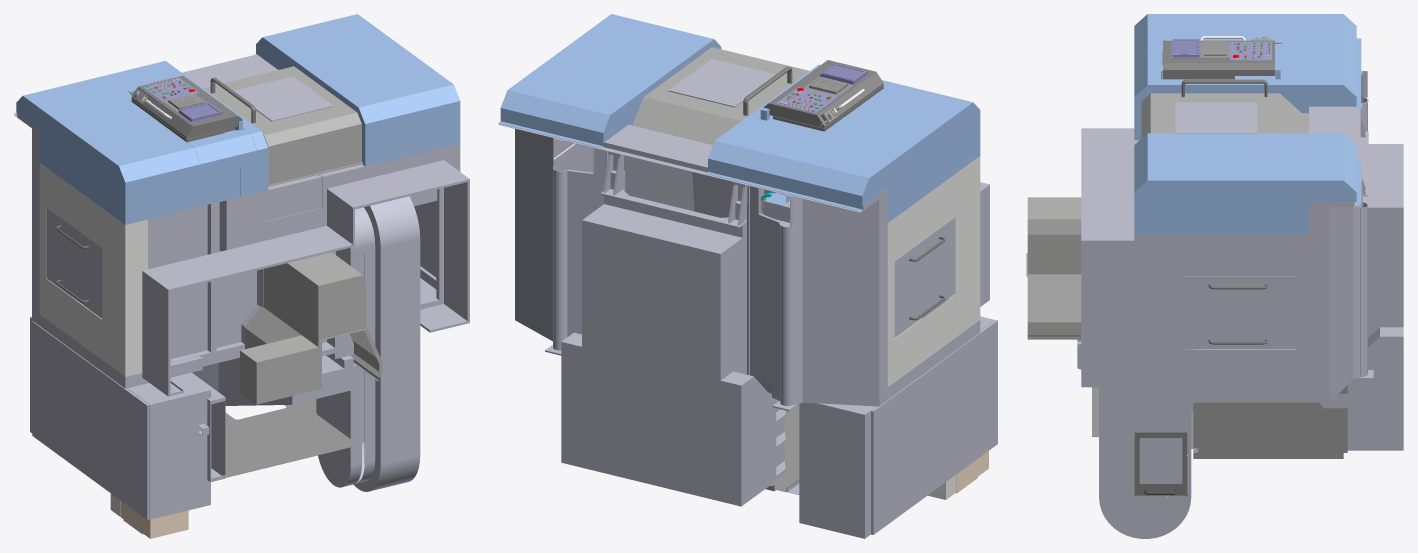
File: DNM 350 5AX_Open.glb
3 views of the same model, side by side, from view 1: azimuth 30°, elevation 25°; view 2: azimuth 150°, elevation 25°; view 3: azimuth 270°, elevation 25° (orthographic). The views are drawn at different scales.
Visible parts, largest first — view 1: SPLASH_GUARD.1, ELECTRICAL_BOX.1, 60T_ATC_COVER.1, SPINDLE_BODY_5001.1, FRONT_DOOR.1, DOOR.1, OP_BOX.1, COLUMN.1; view 2: SPLASH_GUARD.1, BED.1, ELECTRICAL_BOX.1, FRONT_DOOR.1, DOOR.1, OP_BOX.1, Y_SLIDE_4.1, Y_SLIDE_3.1, Y_SLIDE_2.1, COLUMN.1, Y_SLIDE_5.1, A_AXIS.1 (+1 smaller); view 3: SPLASH_GUARD.1, BED.1, 60T_ATC_COVER.1, DOOR.1, SPINDLE_BODY_5001.1, FRONT_DOOR.1, OP_BOX.1, 60T_ATC_DOOR.1.
Boxes of the visible parts, x1,y1,x2,y2 form: SPLASH_GUARD.1: (14, 14, 469, 477); ELECTRICAL_BOX.1: (30, 316, 225, 538); 60T_ATC_COVER.1: (316, 196, 420, 491); SPINDLE_BODY_5001.1: (240, 252, 382, 404); FRONT_DOOR.1: (203, 66, 362, 186); DOOR.1: (46, 201, 436, 318); OP_BOX.1: (128, 75, 242, 142); COLUMN.1: (192, 355, 358, 405); SPLASH_GUARD.1: (498, 14, 989, 492); BED.1: (561, 152, 772, 506); ELECTRICAL_BOX.1: (787, 316, 997, 538); FRONT_DOOR.1: (632, 47, 809, 144); DOOR.1: (553, 143, 954, 337); OP_BOX.1: (763, 60, 883, 131); Y_SLIDE_4.1: (625, 180, 730, 213); Y_SLIDE_3.1: (625, 172, 731, 203); Y_SLIDE_2.1: (624, 164, 732, 195); COLUMN.1: (773, 398, 788, 481); Y_SLIDE_5.1: (625, 190, 729, 217); A_AXIS.1: (764, 192, 792, 222); SPLASH_GUARD.1: (1081, 14, 1373, 458); BED.1: (1344, 116, 1403, 450); 60T_ATC_COVER.1: (1099, 349, 1191, 538); DOOR.1: (1181, 276, 1295, 348); SPINDLE_BODY_5001.1: (1026, 197, 1081, 339); FRONT_DOOR.1: (1141, 79, 1308, 137); OP_BOX.1: (1163, 36, 1281, 79); 60T_ATC_DOOR.1: (1134, 432, 1187, 495).
Size of the model in its own units: 3.08 by 3.37 by 2.85.
